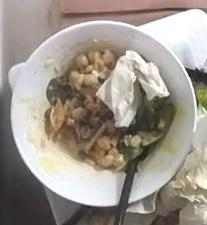salad: (44, 48, 124, 170)
